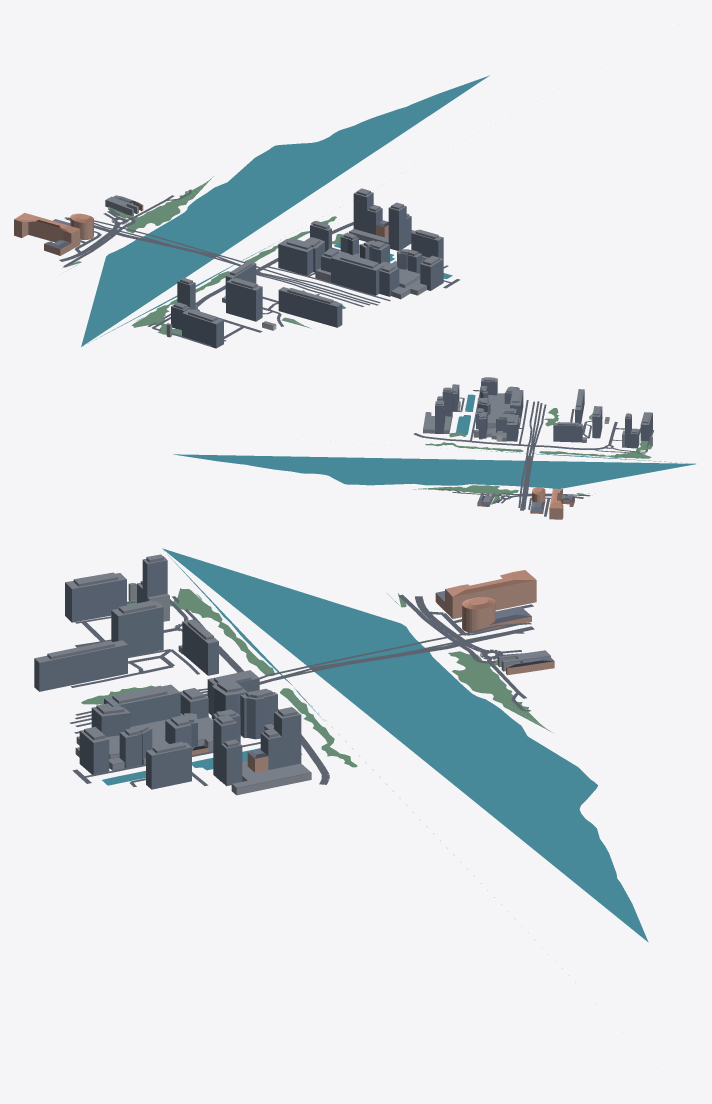
File: tile_6_4_lod0.glb
3 renders of one model, top to bottom at view 1: azimuth 30°, elevation 25°; view 2: azimuth 150°, elevation 25°; view 3: azimuth 270°, elevation 25°, orthographic. The views are drawn at different scales.
Visible parts, largest first — view 1: TileRoot; view 2: TileRoot; view 3: TileRoot.
Part boxes in pixels (x1,y1,x2,y2): TileRoot: [14, 75, 489, 348]; TileRoot: [173, 377, 695, 519]; TileRoot: [34, 548, 648, 982].
Size of the model in its own units: 1141 by 60.3 by 573.
